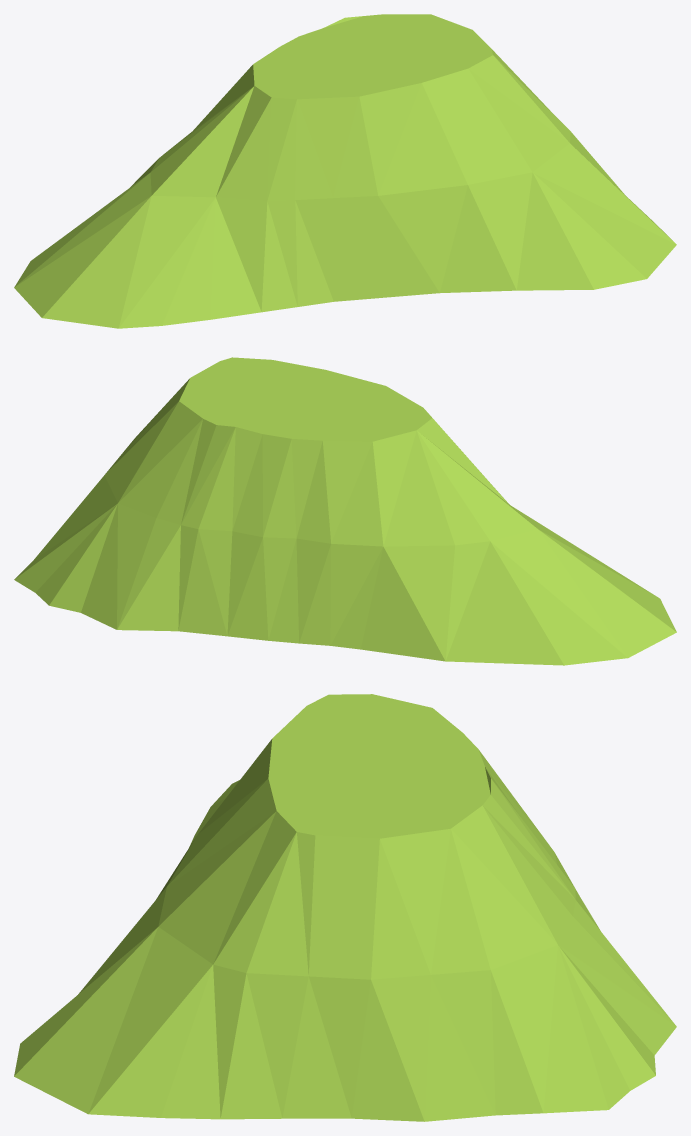
3 renders of one model, top to bottom at view 1: azimuth 30°, elevation 25°; view 2: azimuth 150°, elevation 25°; view 3: azimuth 270°, elevation 25°, orthographic. The views are drawn at different scales.
Visible parts, largest first — view 1: 对象023; view 2: 对象023; view 3: 对象023.
Part boxes in pixels (<box>): 对象023: <box>14,14,676,328</box>; 对象023: <box>14,357,676,665</box>; 对象023: <box>14,694,676,1121</box>.
Bounding box in the file's own units: 14.75 × 4.05 × 11.22.
Materials: 1 (1 with a texture image).
